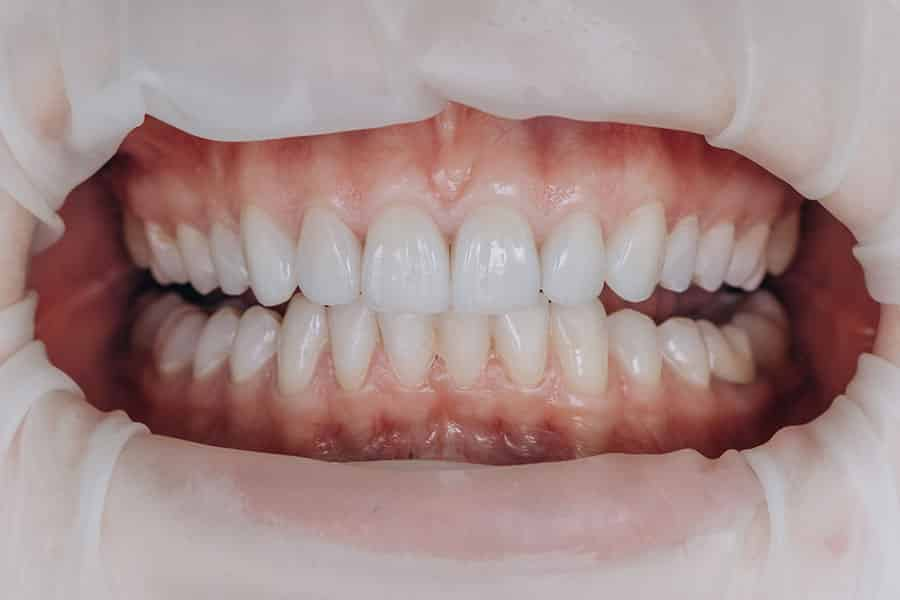LL1BC_healthy: (611, 306, 663, 398)
LL1M_healthy: (703, 320, 754, 393)
LL2BC_healthy: (657, 313, 710, 398)
LL2M_healthy: (747, 298, 795, 371)
LLCI_healthy: (442, 312, 494, 388)
LLC_healthy: (552, 304, 612, 401)
LLLI_healthy: (495, 310, 549, 401)
LR1BC_healthy: (239, 308, 276, 390)
LR1M_healthy: (168, 303, 202, 381)
LR2BC_healthy: (202, 307, 236, 382)
LR2M_healthy: (131, 295, 164, 367)
LRCI_healthy: (378, 309, 441, 393)
LRC_healthy: (277, 301, 326, 397)
LRLI_healthy: (328, 304, 376, 393)
UL1BC_healthy: (669, 216, 699, 298)
UL1M_healthy: (736, 223, 769, 294)
UL2BC_healthy: (697, 218, 734, 293)
UL2M_healthy: (769, 212, 802, 275)
ULCI_healthy: (452, 202, 540, 310)
ULC_healthy: (608, 206, 668, 302)
ULLI_healthy: (538, 209, 606, 307)
UR1BC_healthy: (209, 221, 246, 297)
UR1M_healthy: (147, 222, 187, 285)
UR2BC_healthy: (179, 223, 219, 299)
UR2M_healthy: (125, 214, 147, 277)
URCI_healthy: (358, 206, 454, 313)
URC_healthy: (239, 206, 296, 306)
URLI_healthy: (297, 208, 359, 307)
